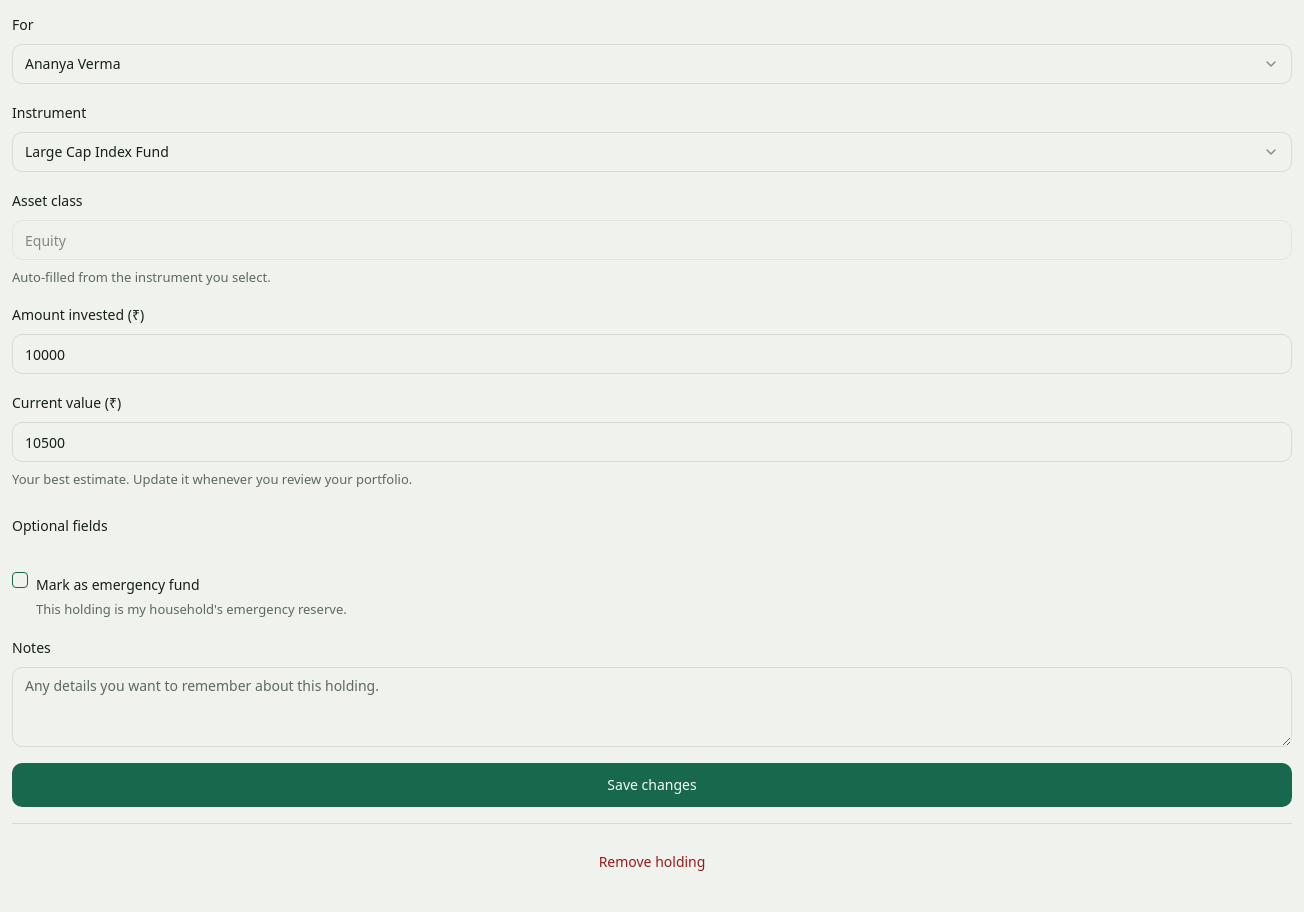
Test: HoldingForm › inside a non-baseline ledger › on the Current tab, the confirm copy reads "Remove this holding from Current?"
The image size is (1304, 912).
Click the button "Remove holding": (652, 862) [12,840,1292,884]
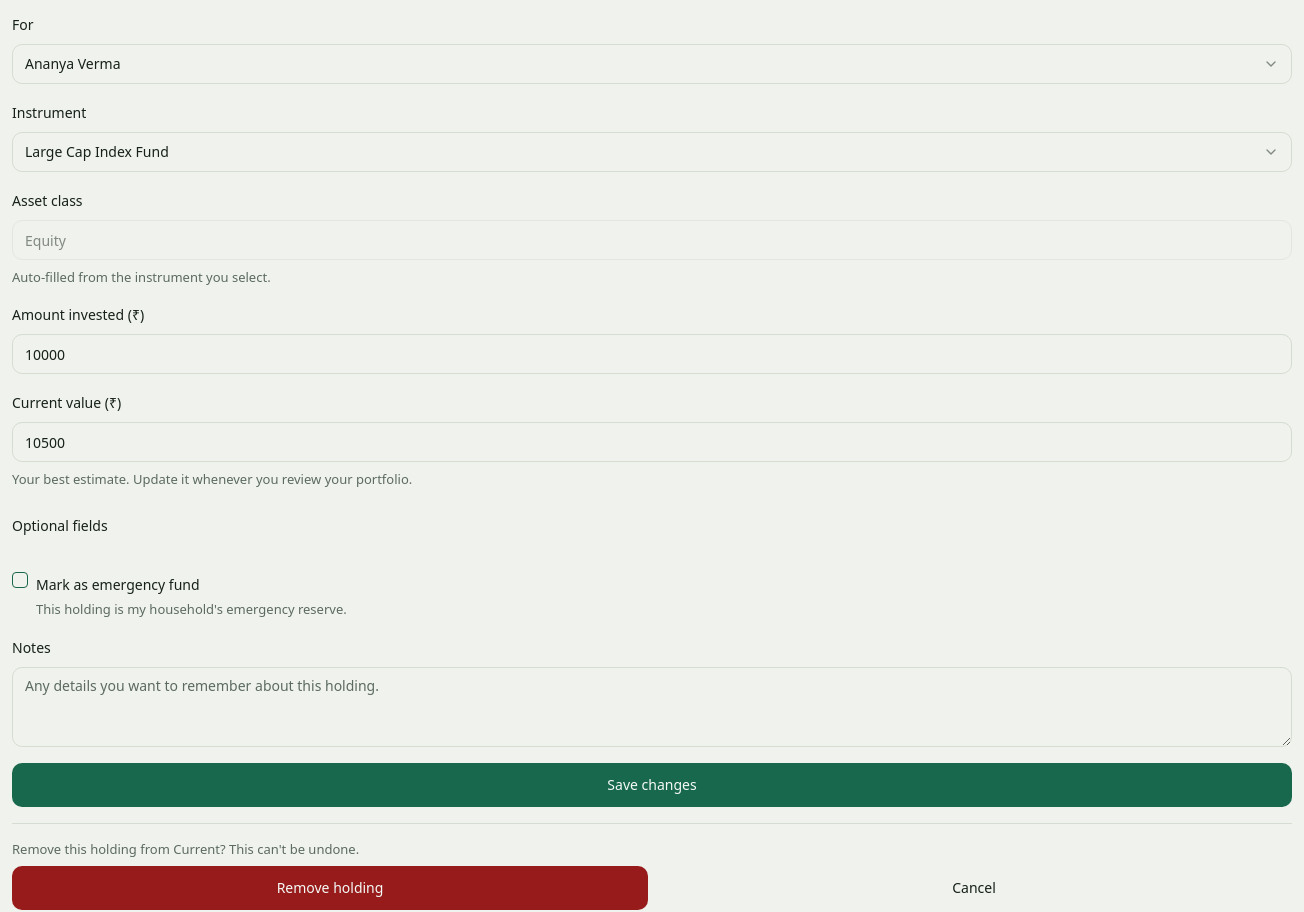
Result: the text "Remove this holding from Current? This can't be undone." is shown at [12,840,359,858]
